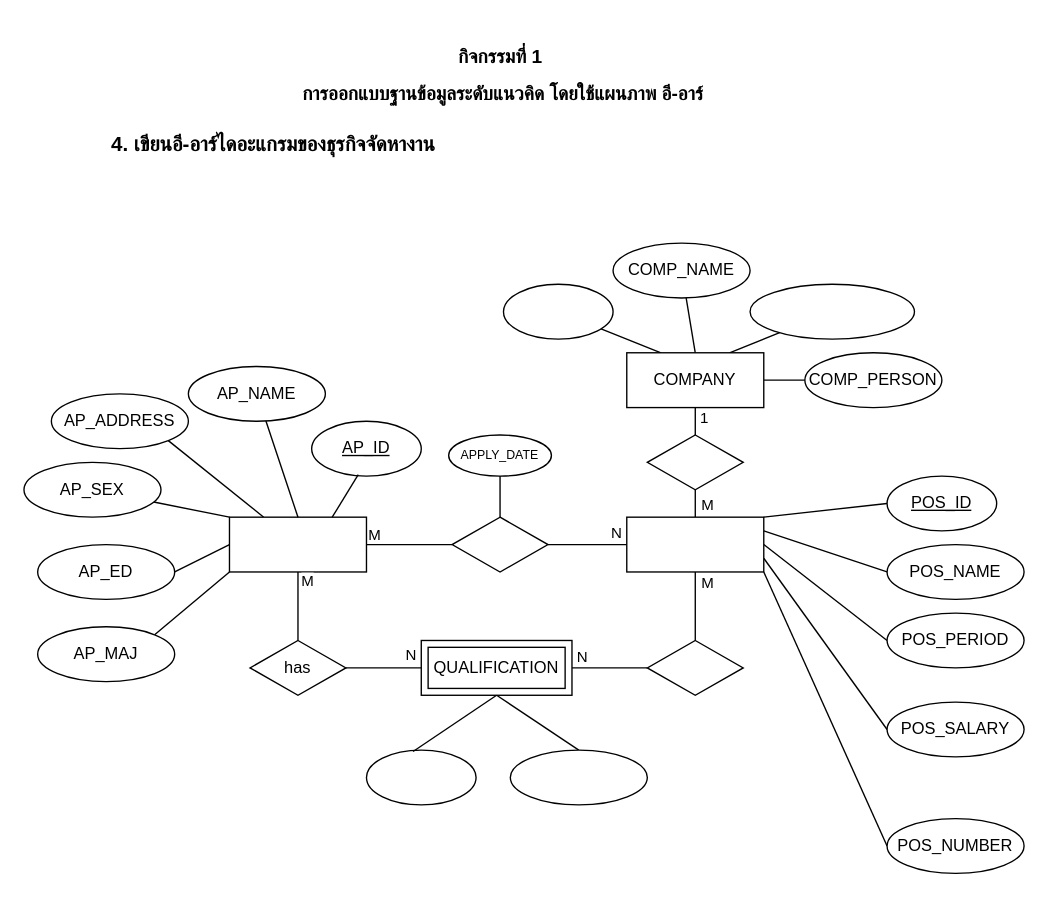
Image size: 1048x897. Some labels were removed from this diagram. Each missing label, with the box of its shape:
APPLICANT: (228, 516, 366, 572)
applies: (451, 516, 548, 572)
COMP_ADDRESS: (749, 283, 914, 339)
COMP_ID: (502, 283, 613, 339)
POSITION: (625, 516, 764, 572)
post: (646, 434, 743, 490)
QUAL_CODE: (365, 749, 476, 805)
QUAL_DESC: (509, 749, 647, 805)
requires: (646, 639, 743, 695)
